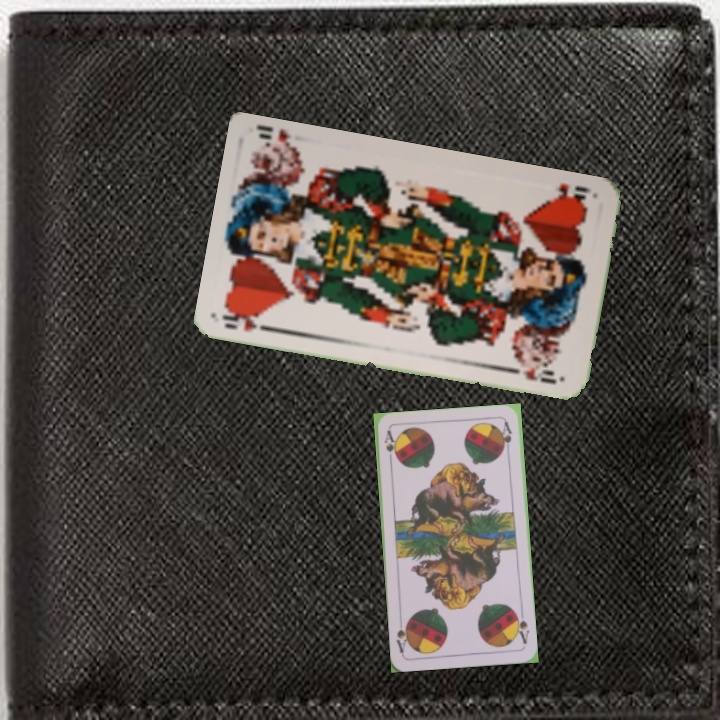HO: (219, 305, 277, 334), (549, 180, 594, 209)
SA: (511, 607, 532, 646), (380, 427, 399, 467)
